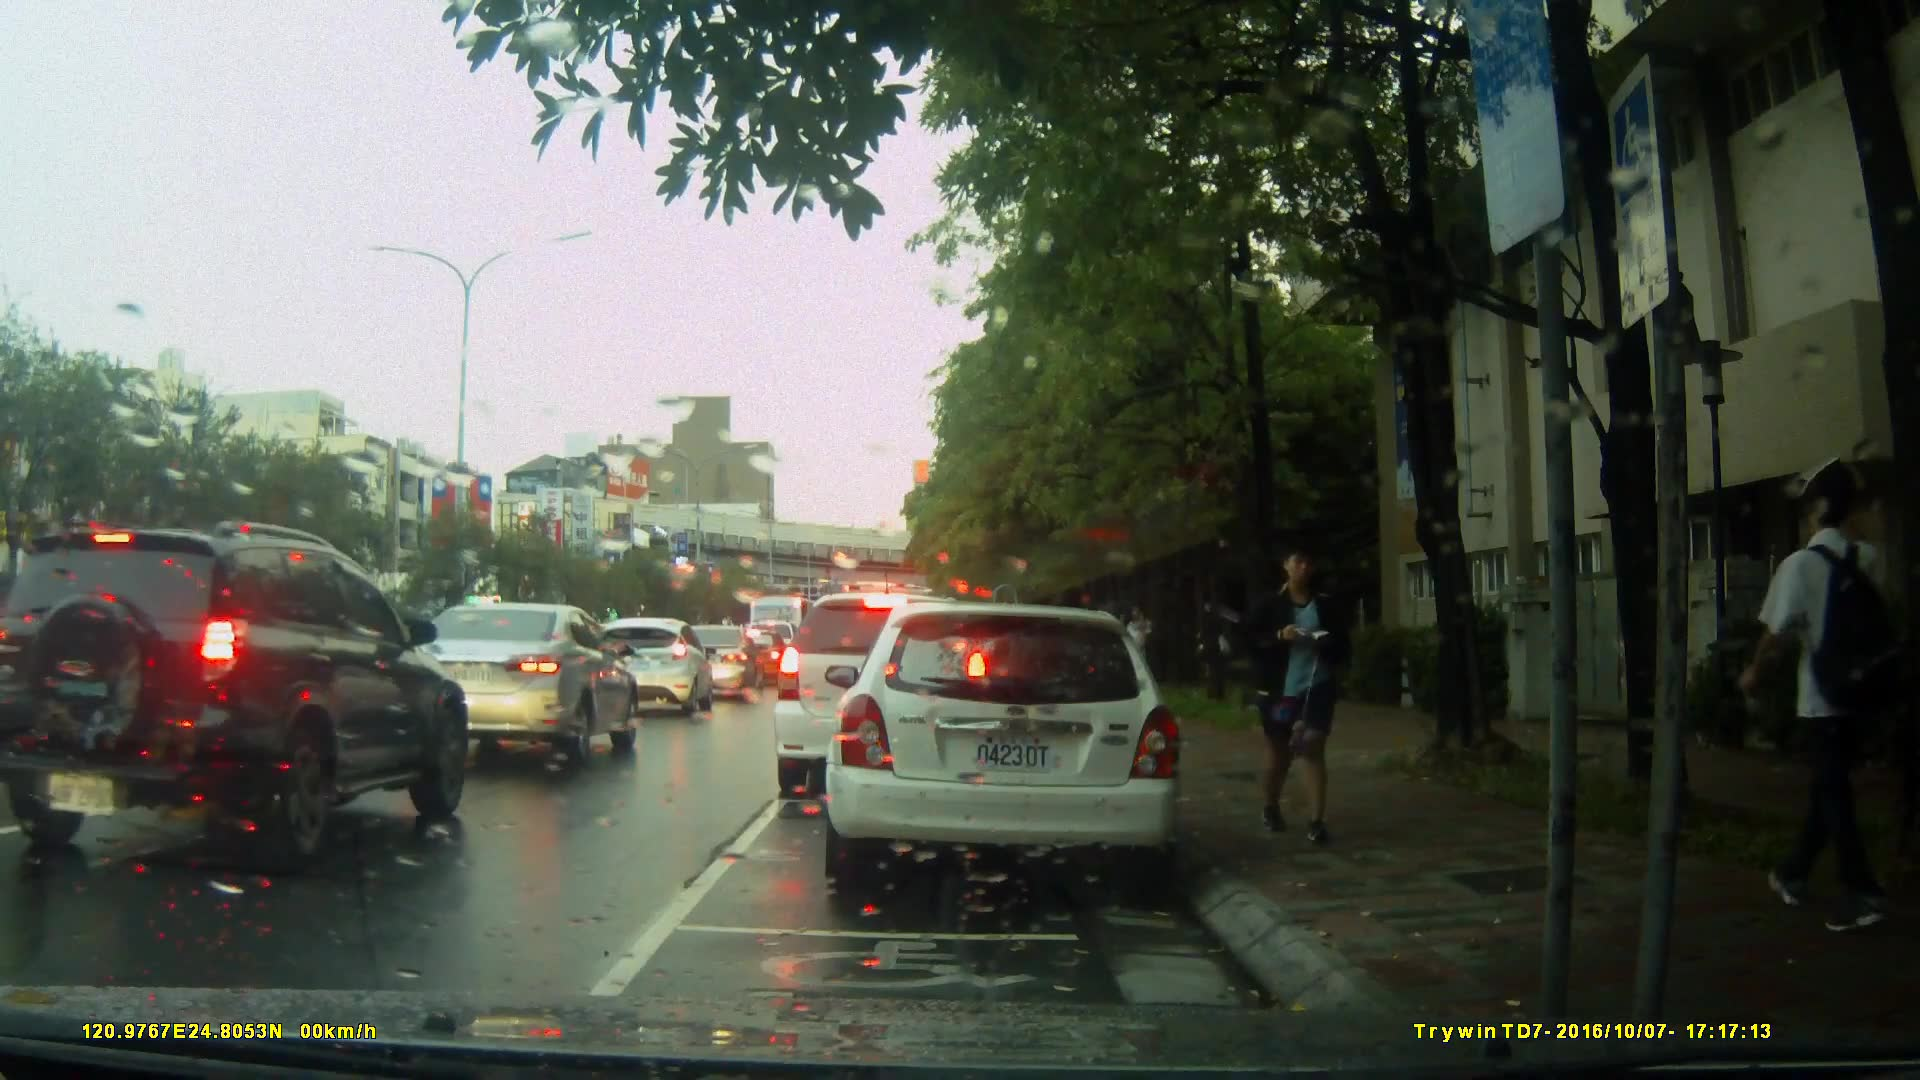pedestrian: (1741, 453, 1904, 950), (1232, 537, 1381, 850), (1117, 588, 1158, 730)
vehicle: (16, 519, 472, 867), (815, 593, 1199, 894), (770, 590, 995, 802), (391, 603, 642, 767), (587, 615, 718, 718), (677, 624, 760, 696)
